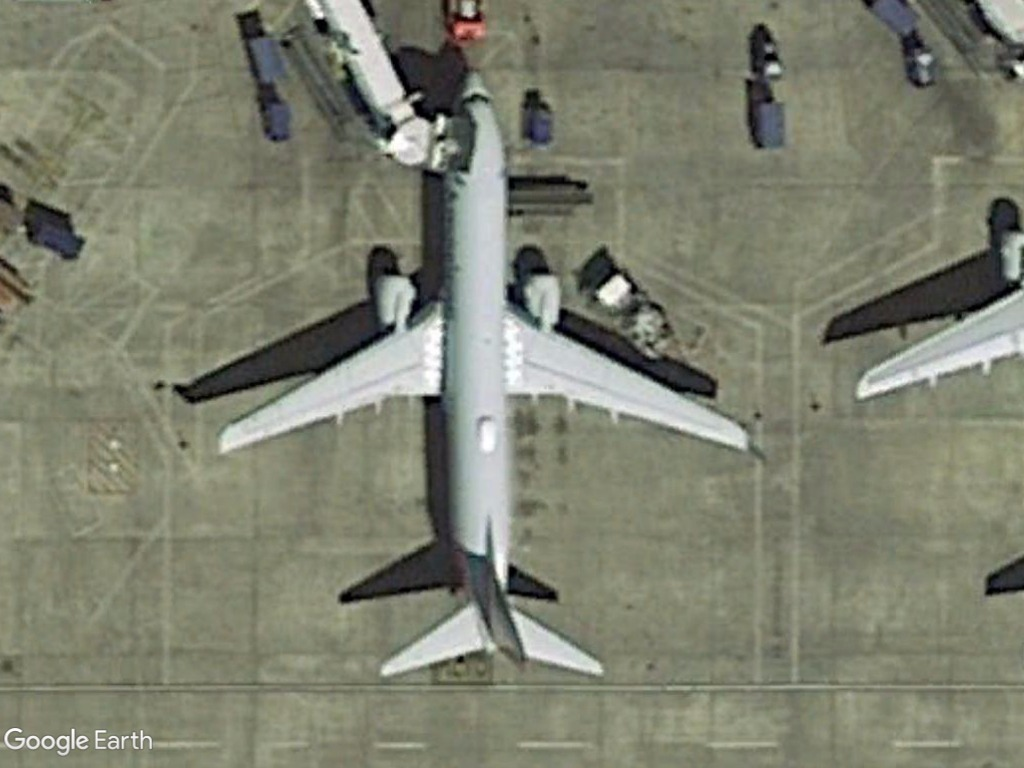airliner: (206, 58, 766, 689)
